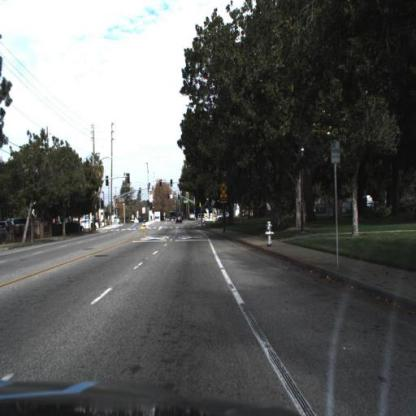car: (76, 216, 99, 232), (173, 214, 185, 230), (189, 211, 196, 226)
trafficLight-Green: (170, 178, 175, 190)
truck: (153, 204, 165, 226)
